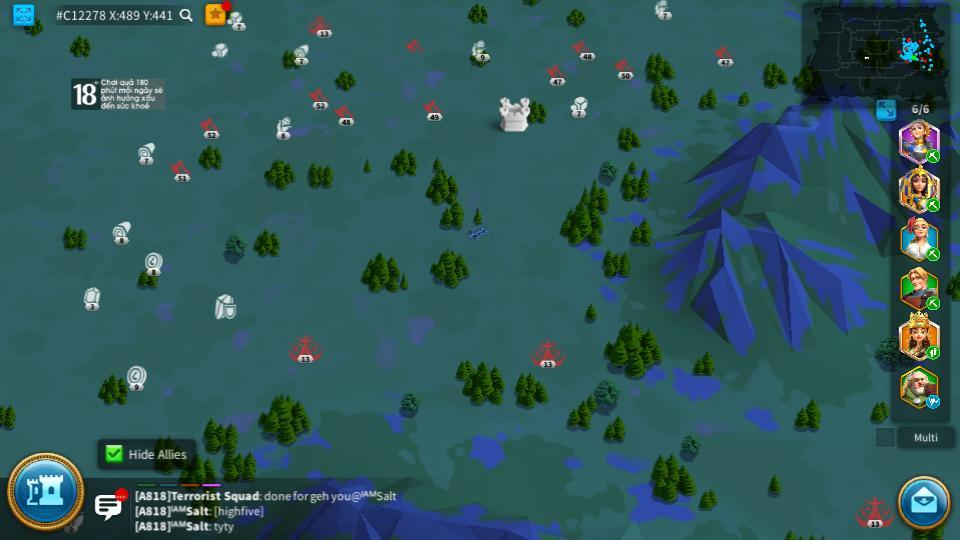gem-z-out: (82, 287, 101, 310)
march_farming: (925, 197, 941, 212), (925, 149, 942, 162), (925, 248, 942, 260), (925, 297, 942, 308)
march_idle: (925, 396, 942, 408)
march_marching: (925, 347, 941, 359)
